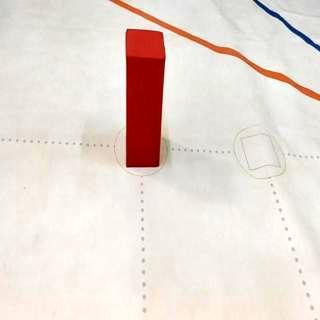redbox: (124, 29, 166, 167)
